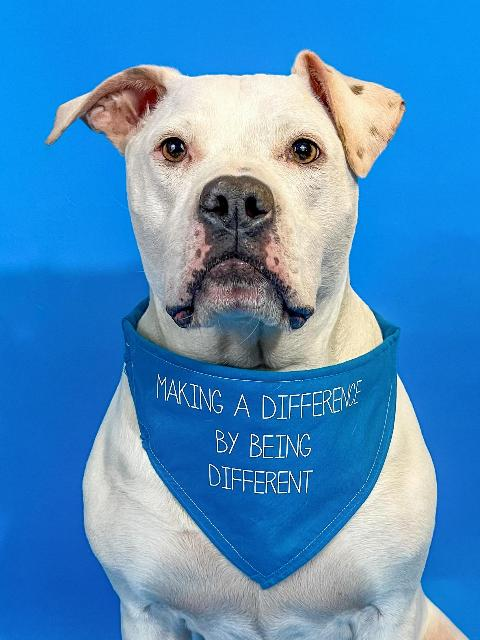dog: (50, 46, 468, 640)
